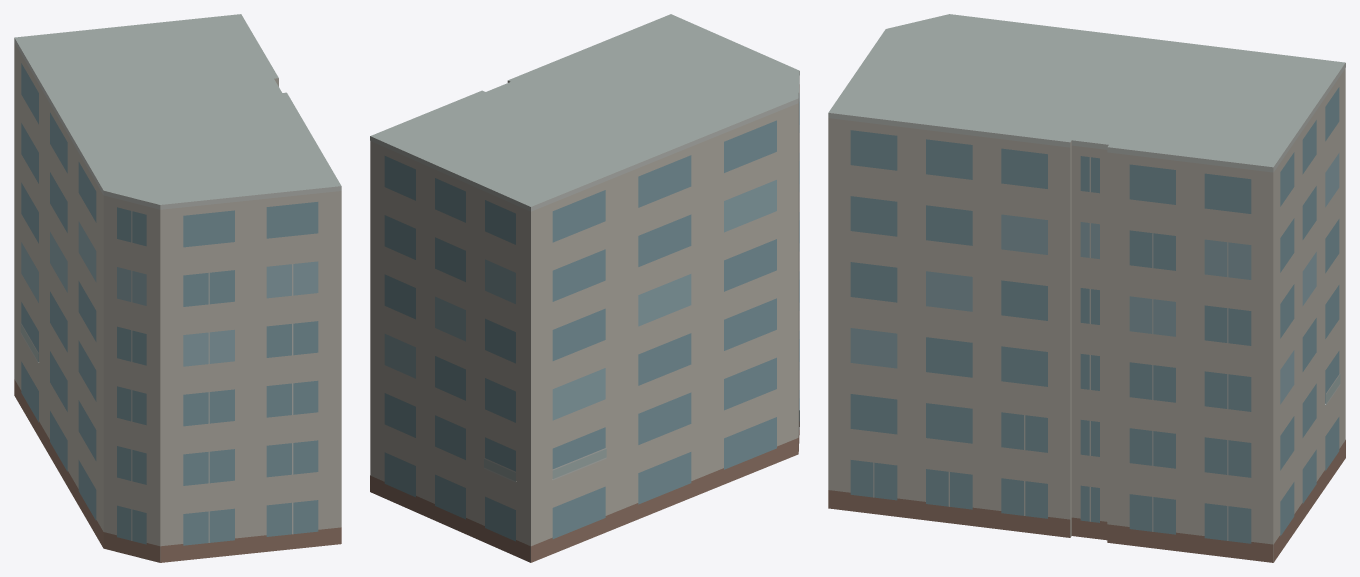
Rendered from survey-upis-32742673.glb.
The picture shows the model from 3 angles, left to right: view 1: azimuth 30°, elevation 25°; view 2: azimuth 150°, elevation 25°; view 3: azimuth 270°, elevation 25°; orthographic projection. The views are drawn at different scales.
Visible parts, largest first — view 1: survey-upis-32742673.tmp; view 2: survey-upis-32742673.tmp; view 3: survey-upis-32742673.tmp.
Boxes of the visible parts, <box> form: survey-upis-32742673.tmp: <box>14,14,341,562</box>; survey-upis-32742673.tmp: <box>370,14,799,562</box>; survey-upis-32742673.tmp: <box>828,14,1345,562</box>.
Size of the model in its own units: 15.22 by 18.3 by 21.7.
